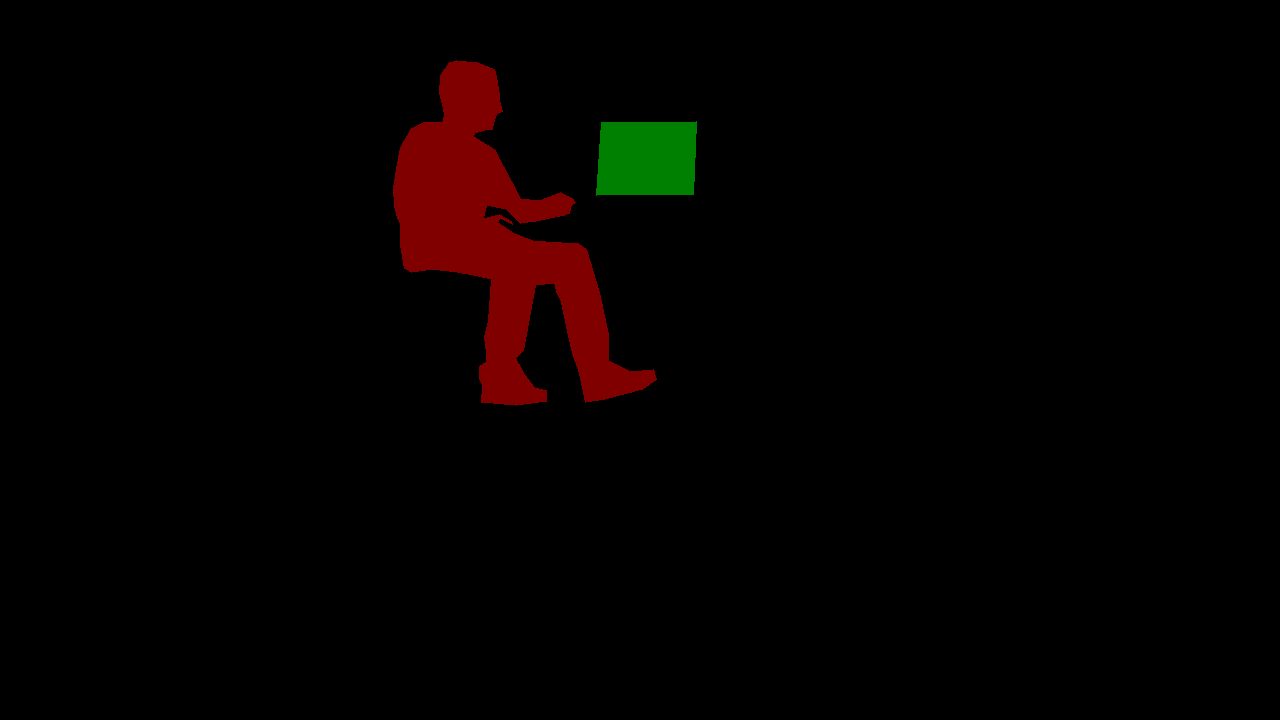person: (393, 60, 656, 405)
tvmonitor: (596, 121, 696, 195)
